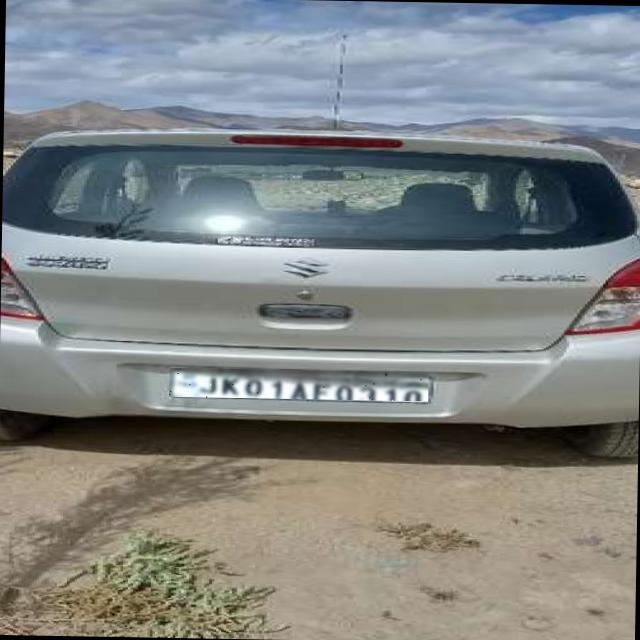Plate: (170, 368, 429, 402)
